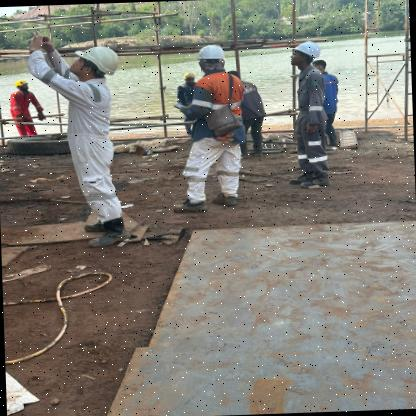bota: (88, 218, 132, 247), (168, 198, 209, 214), (210, 192, 238, 209), (300, 174, 331, 188), (288, 172, 316, 184), (84, 219, 106, 232)
